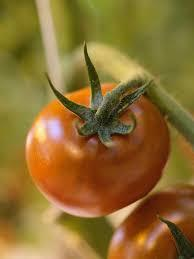Mengkal: (17, 67, 168, 219)
